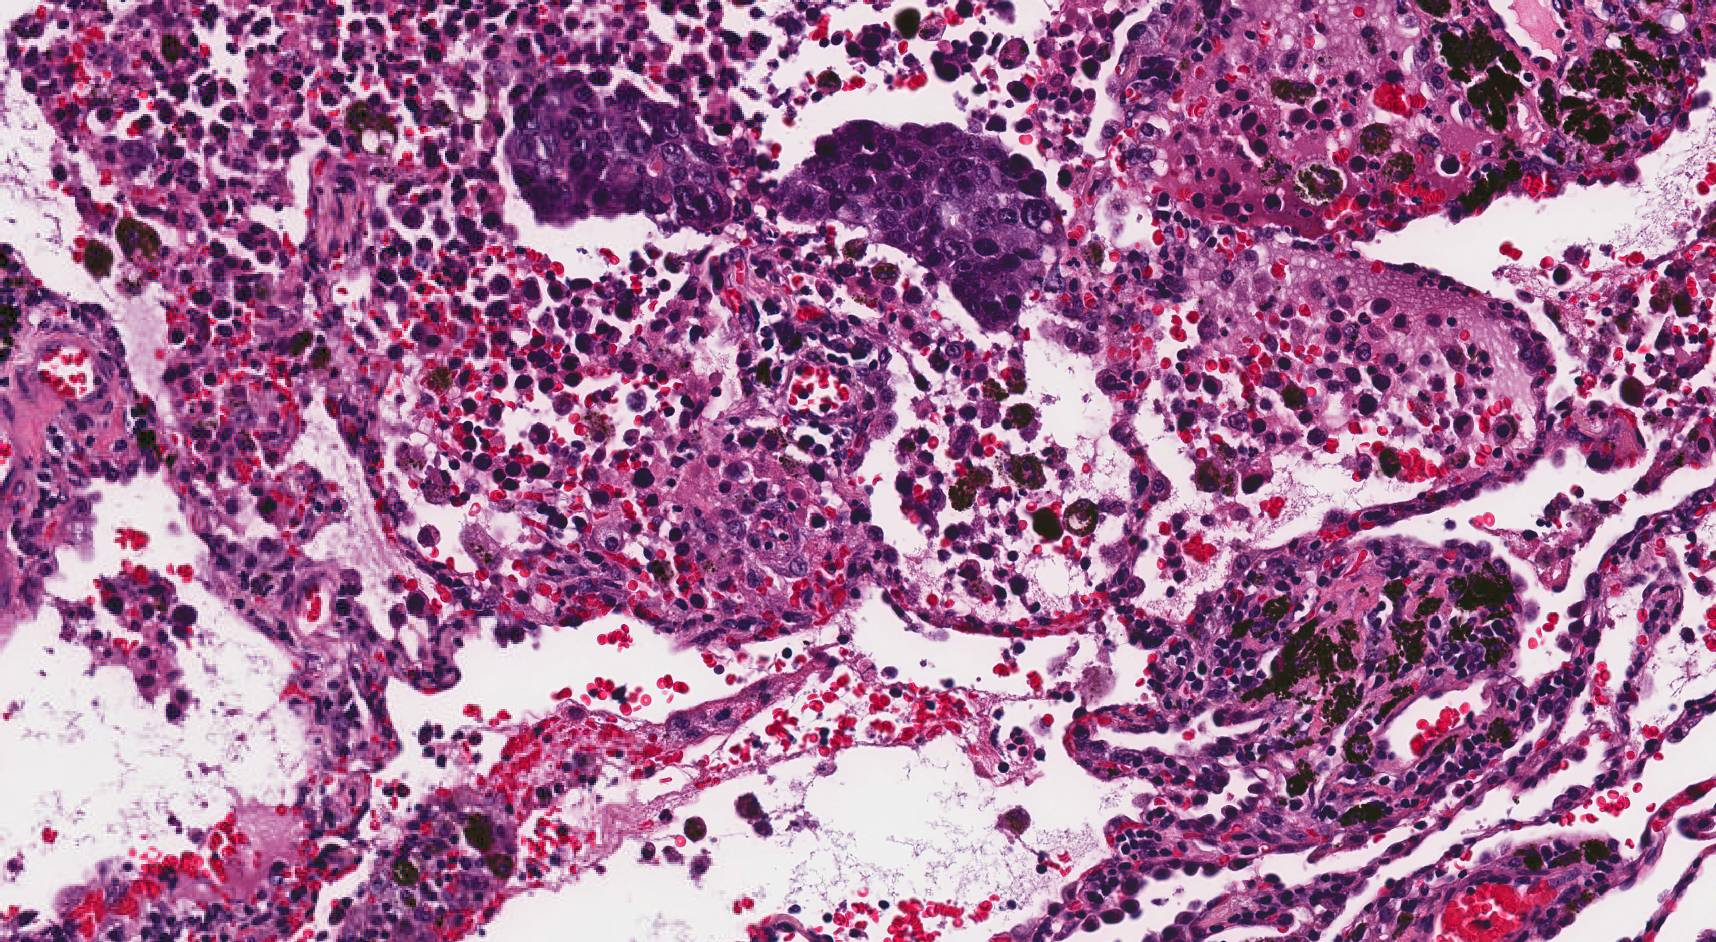stas: (774, 117, 1065, 335), (503, 72, 734, 229)
